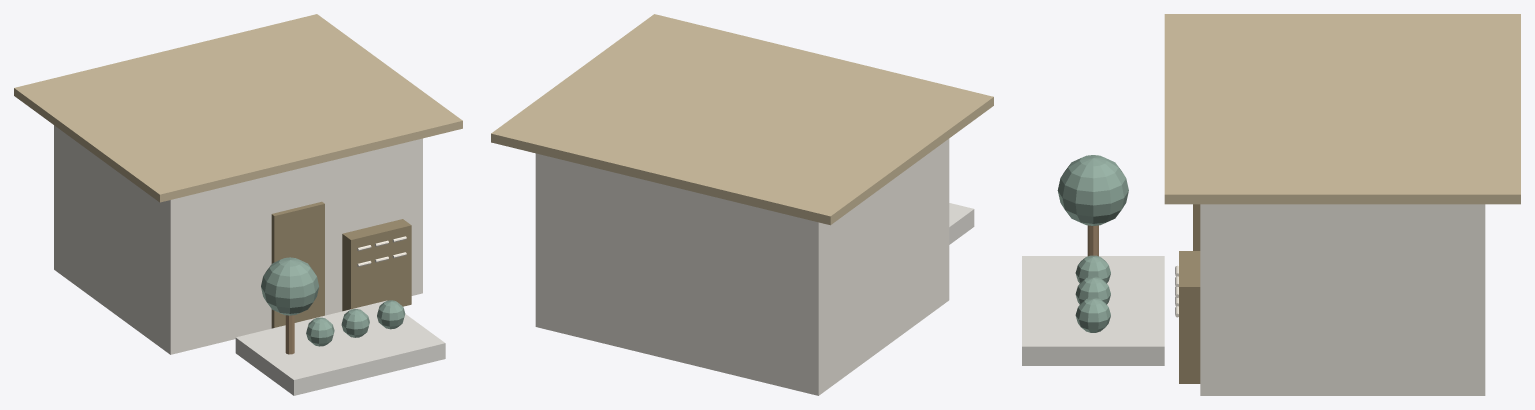
The model's file is LanguageSchool_Steppe.fbx.
The picture shows the model from 3 angles, left to right: view 1: azimuth 30°, elevation 25°; view 2: azimuth 150°, elevation 25°; view 3: azimuth 270°, elevation 25°; orthographic projection. The views are drawn at different scales.
Parts seen in each view (by area): view 1: LanguageSchool_Steppe_Mesh; view 2: LanguageSchool_Steppe_Mesh; view 3: LanguageSchool_Steppe_Mesh.
Boxes of the visible parts, <box> form: LanguageSchool_Steppe_Mesh: <box>14,14,462,395</box>; LanguageSchool_Steppe_Mesh: <box>491,14,993,395</box>; LanguageSchool_Steppe_Mesh: <box>1022,14,1520,395</box>.
Bounding box in the file's own units: 6 × 3.35 × 7.
